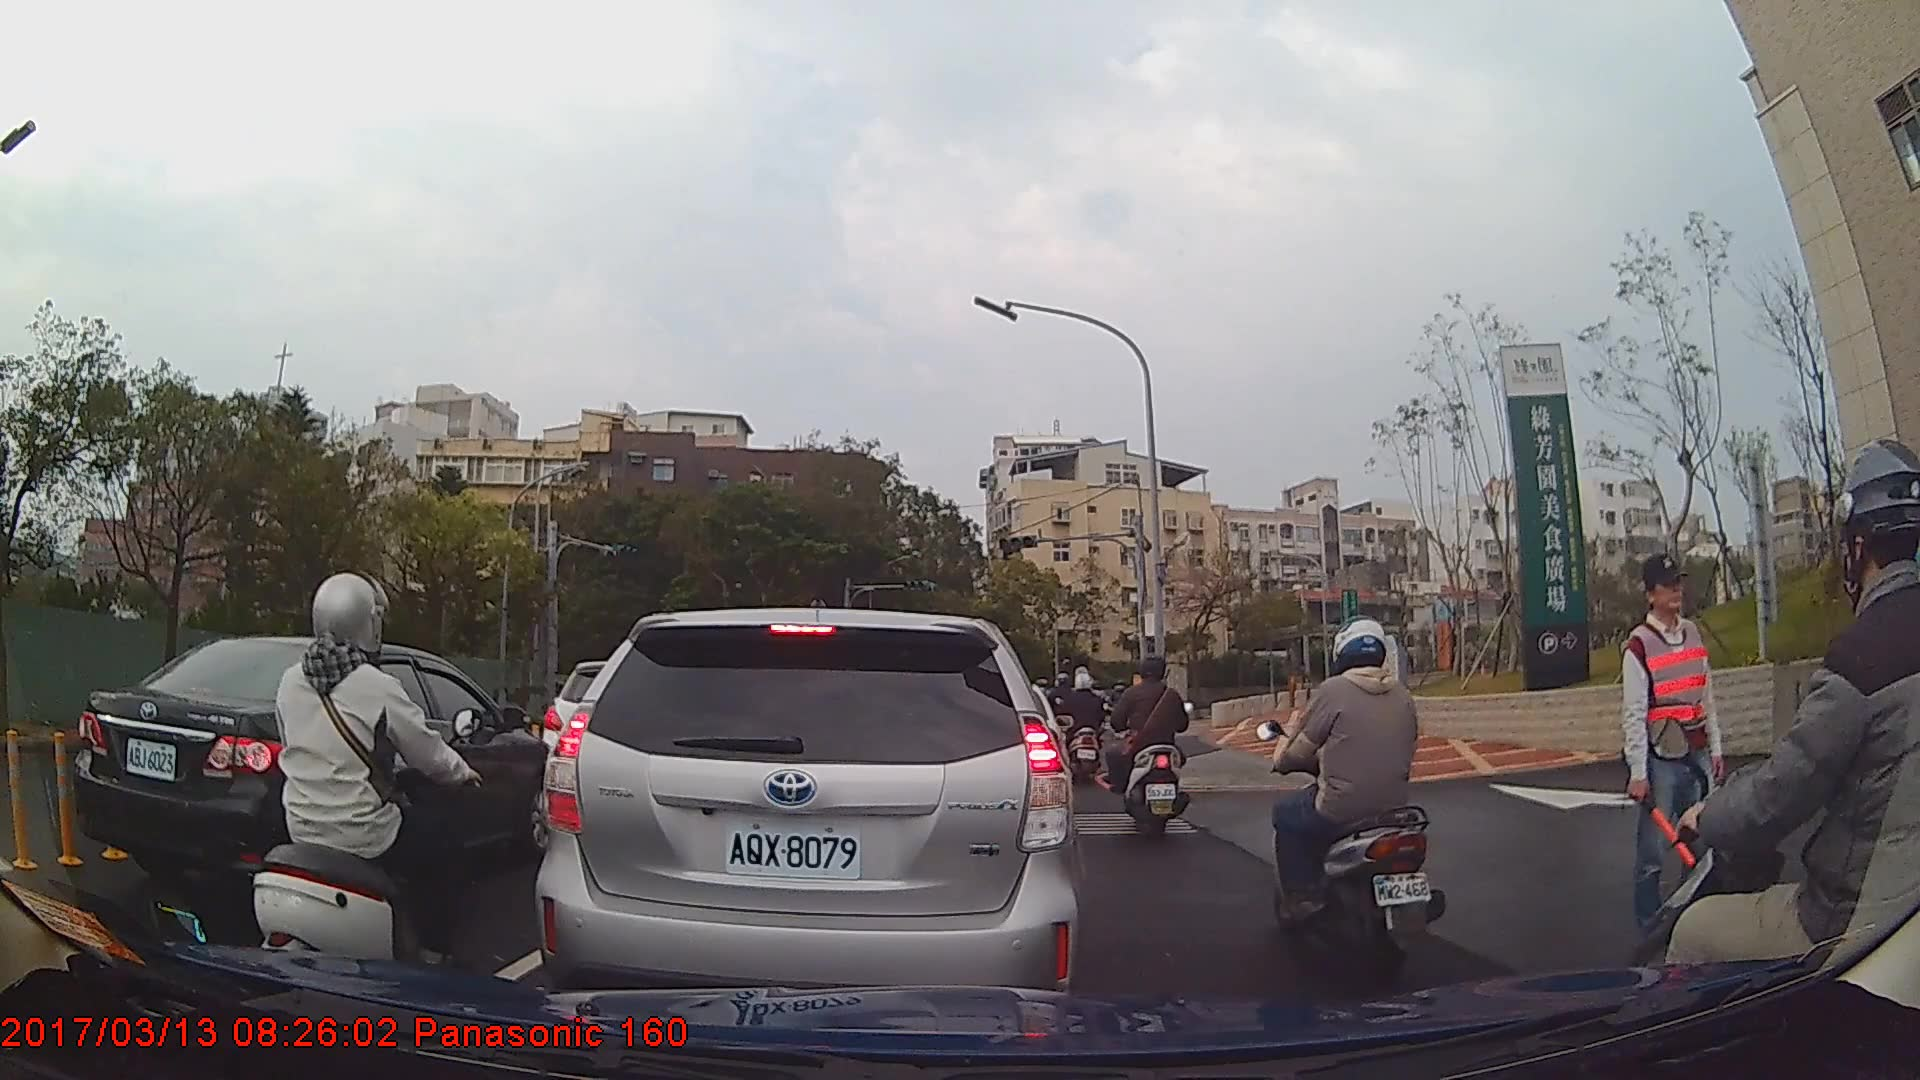pedestrian: (1618, 549, 1726, 956)
rider: (1629, 436, 1920, 1076), (236, 566, 468, 1013), (1262, 618, 1439, 973), (1104, 655, 1192, 835), (1069, 667, 1113, 790)
vehicle: (530, 608, 1085, 1019), (68, 634, 559, 919)
